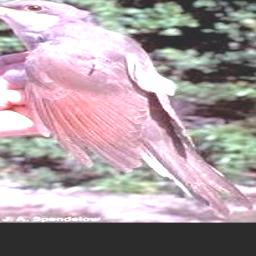Cuckoo: (0, 0, 251, 219)
